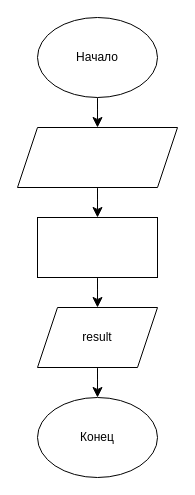
The diagram is 195 pixels wide and 495 high, and some of its shapes have lost their labels. Here are the shapes that lost their labels. From the top down, the box of each, then its label:
(16, 126, 178, 188): v = 3.0 * (10.0 ** 8.0) F
(36, 216, 158, 278): result = v / F
